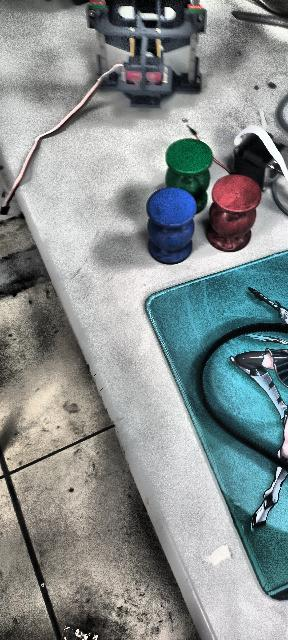blue: (146, 186, 196, 264)
green: (165, 137, 214, 216)
red: (207, 174, 263, 252)
